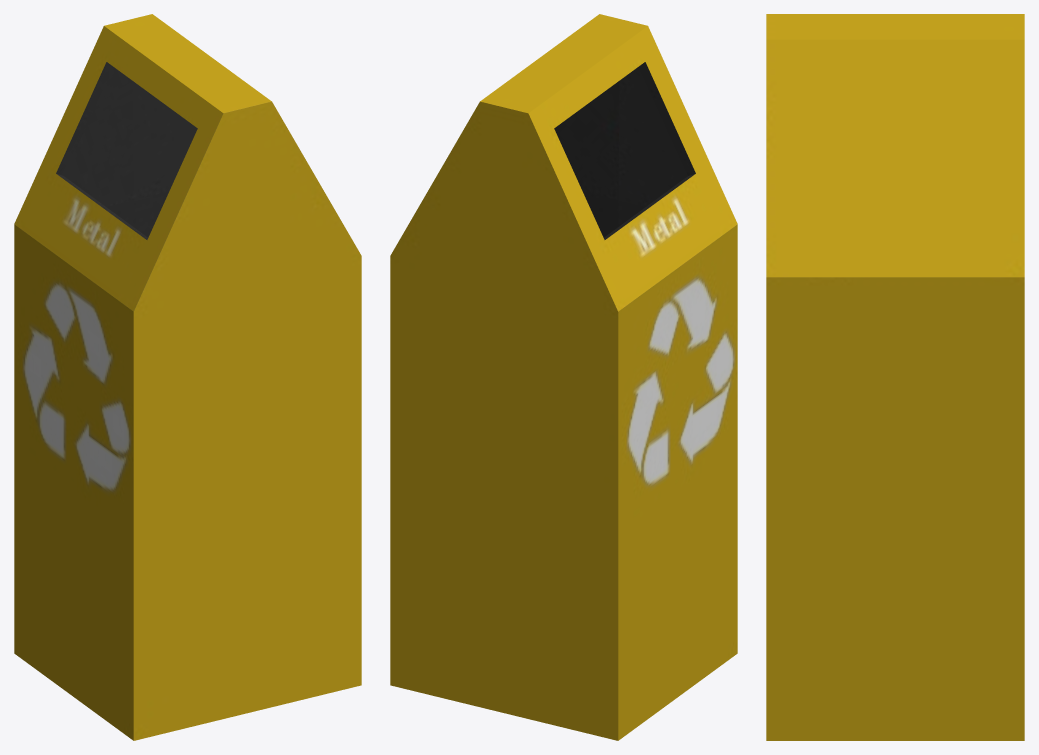
Rendered from Trash_bin_metal.gltf.
3 renders of one model, left to right at view 1: azimuth 30°, elevation 25°; view 2: azimuth 150°, elevation 25°; view 3: azimuth 270°, elevation 25°, orthographic. The views are drawn at different scales.
Visible parts, largest first — view 1: Trash_bin; view 2: Trash_bin; view 3: Trash_bin.
Part boxes in pixels (bbox=[...]): Trash_bin: bbox=[14, 14, 361, 740]; Trash_bin: bbox=[390, 14, 737, 740]; Trash_bin: bbox=[766, 14, 1024, 740].
Bounding box in the file's own units: 10.78 × 27.35 × 9.79.
Materials: 1 (1 with a texture image).
